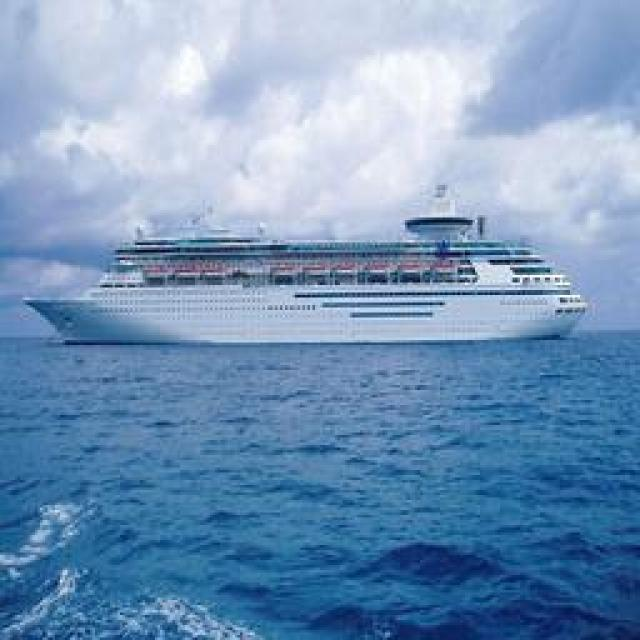CIV_Ship: (44, 222, 586, 346)
